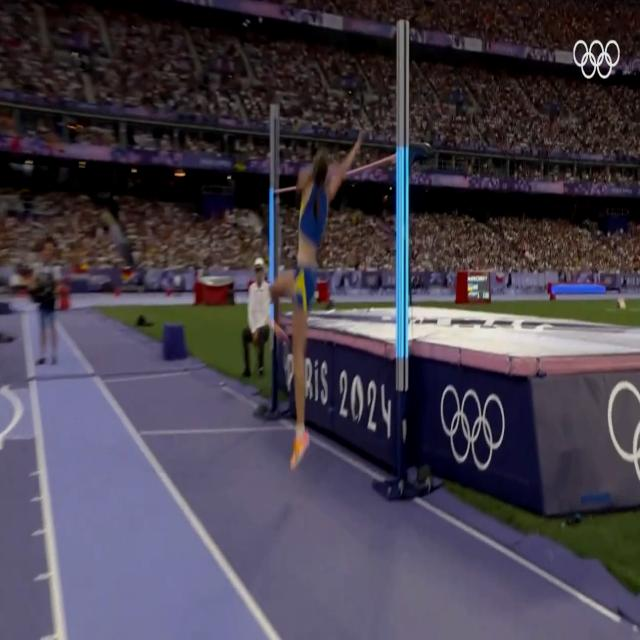jump: (267, 127, 369, 470)
